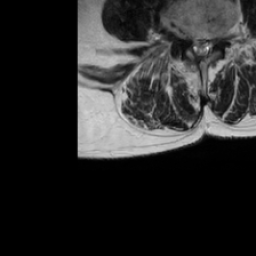CCS_normal: (198, 30, 204, 64)
LFS_severe_stenosis: (213, 30, 222, 53)
LLS_normal: (204, 30, 213, 59)
RFS_severe_stenosis: (181, 29, 190, 53)
RLS_normal: (190, 31, 198, 59)
